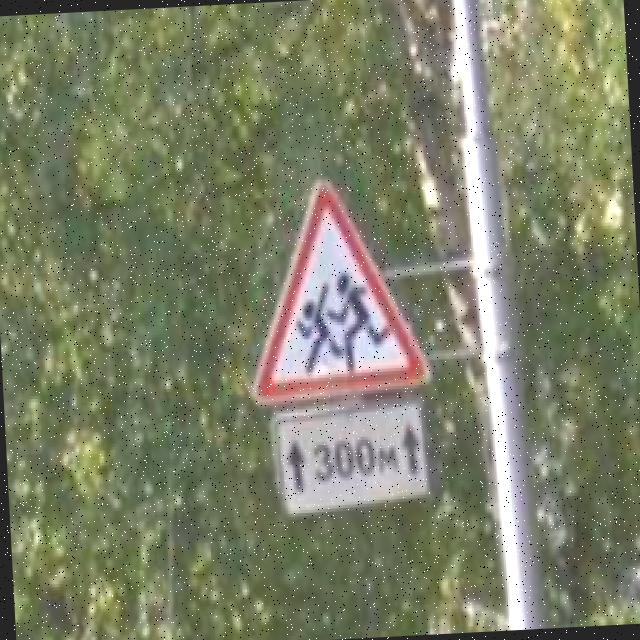Dzieci: (239, 171, 432, 406)
